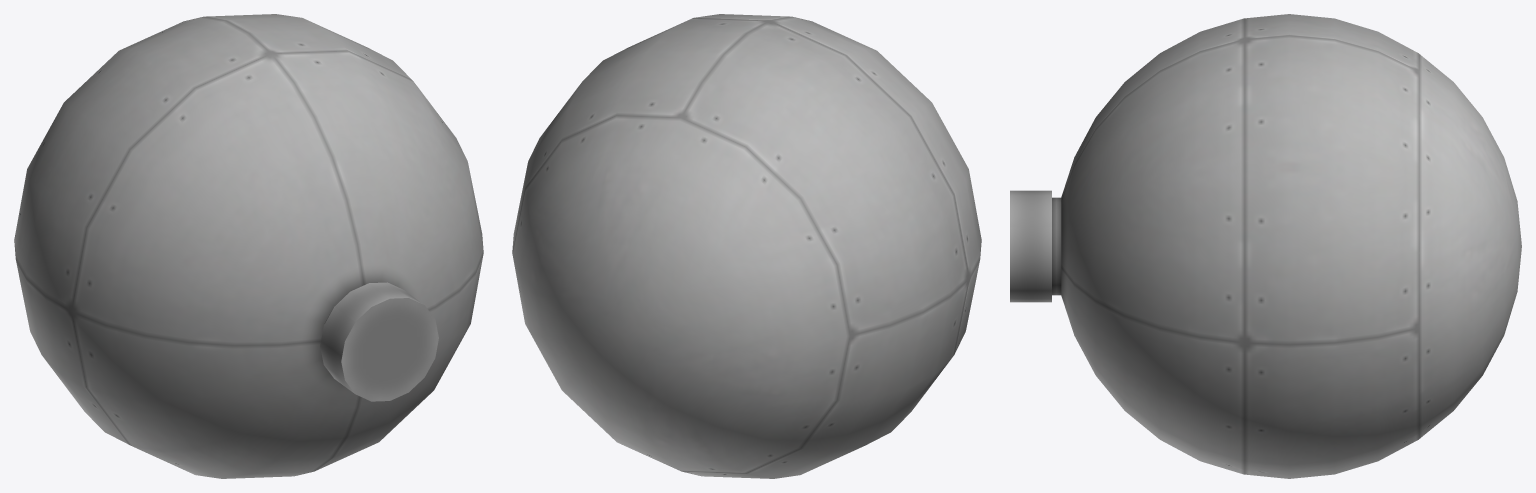
The model's file is Alniyat_MonoSphere_2.obj.
The picture shows the model from 3 angles, left to right: view 1: azimuth 30°, elevation 25°; view 2: azimuth 150°, elevation 25°; view 3: azimuth 270°, elevation 25°; orthographic projection.
Visible parts, largest first — view 1: Alniyat_MonoSphere_2; view 2: Alniyat_MonoSphere_2; view 3: Alniyat_MonoSphere_2.
Boxes of the visible parts, bbox=[...] form: Alniyat_MonoSphere_2: bbox=[14, 14, 483, 478]; Alniyat_MonoSphere_2: bbox=[512, 14, 981, 478]; Alniyat_MonoSphere_2: bbox=[1010, 14, 1521, 478].
Size of the model in its own units: 0.5 by 0.5 by 0.55.
